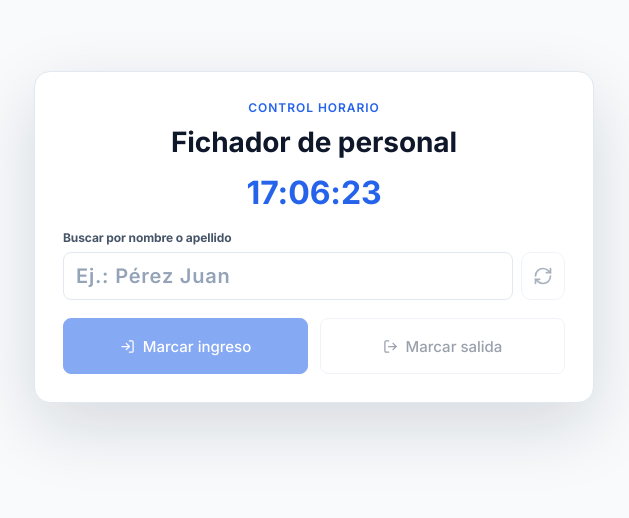
Test: TimeClockPage — fichador sin selector de concepto horario (Etapa 6K) › muestra un error claro si falla la consulta de estado, sin romper la pantalla
Type "Gomez" into the field labelled "Buscar por nombre o apellido" at (288, 276), box [63,252,513,300]
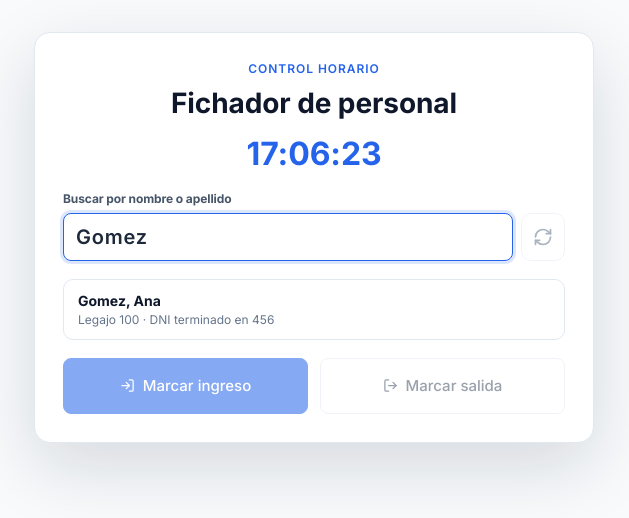
Click the text "Gomez, Ana" at (119, 300), box [78,292,161,308]
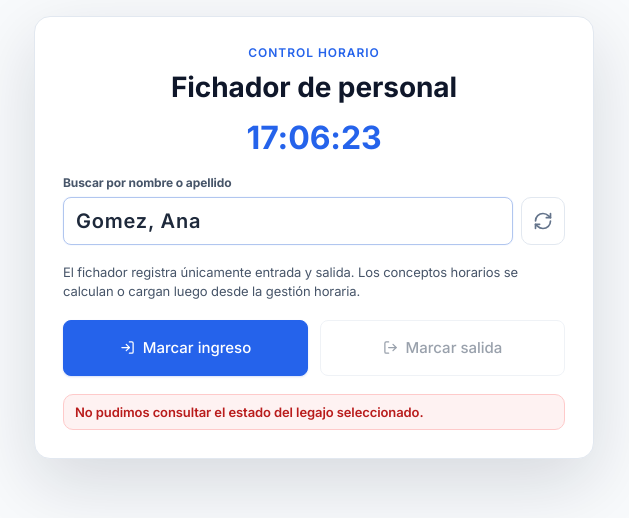
Now the text "No pudimos consultar el estado del legajo seleccionado." is shown, box [63,394,565,430]
